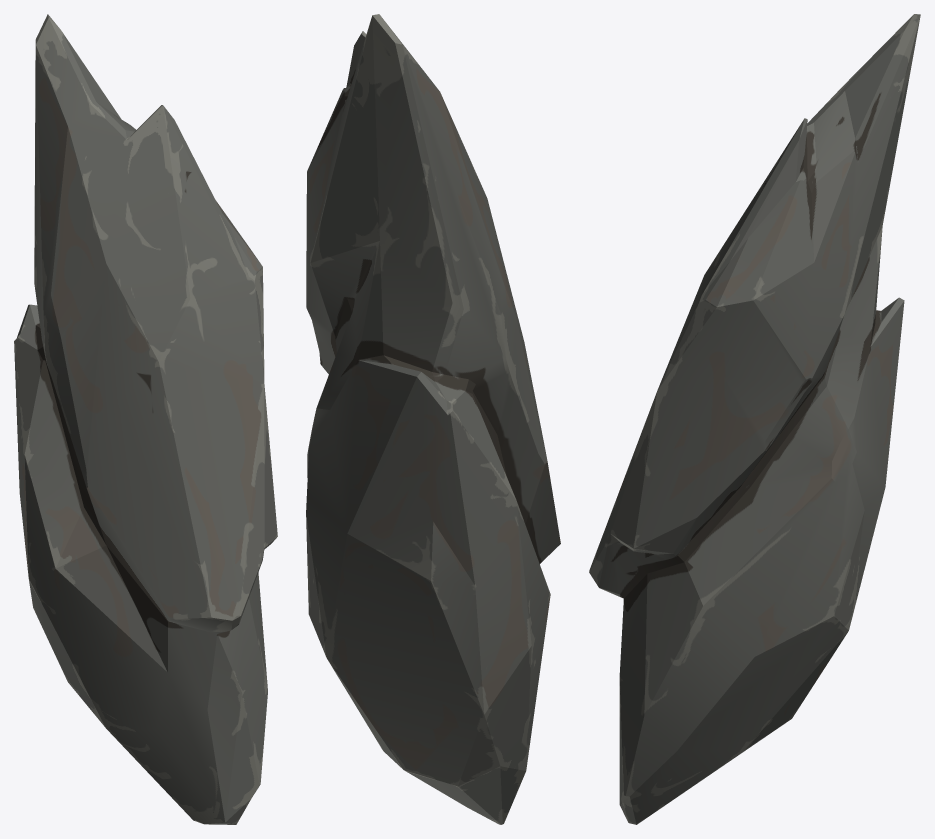
File: rock_test.glb
The picture shows the model from 3 angles, left to right: view 1: azimuth 30°, elevation 25°; view 2: azimuth 150°, elevation 25°; view 3: azimuth 270°, elevation 25°; orthographic projection. The views are drawn at different scales.
Visible parts, largest first — view 1: Cube.001; view 2: Cube.001; view 3: Cube.001.
Boxes of the visible parts, left/top/right/bottom form: Cube.001: left=14, top=14, right=277, bottom=824; Cube.001: left=306, top=14, right=560, bottom=824; Cube.001: left=589, top=14, right=920, bottom=824.
Size of the model in its own units: 3.45 by 12.29 by 4.73.
Materials: 1 (1 with a texture image).
